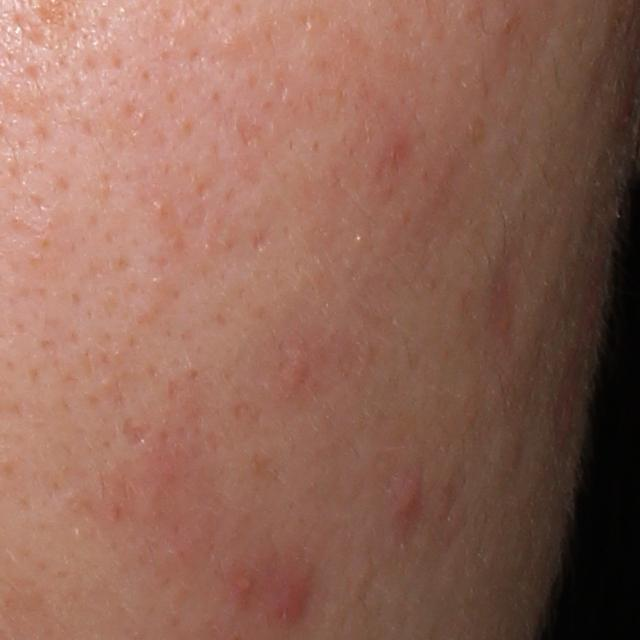atrophic_scar: (485, 240, 525, 347), (120, 414, 156, 450)
papule: (267, 565, 313, 621), (393, 482, 425, 520)
